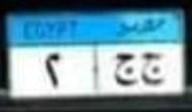2: (41, 52, 67, 87)
jeem: (111, 48, 137, 87), (142, 49, 167, 87)
